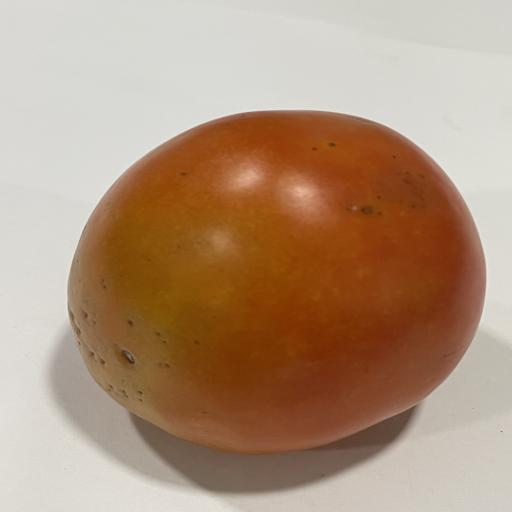ripe: (68, 110, 485, 453)
